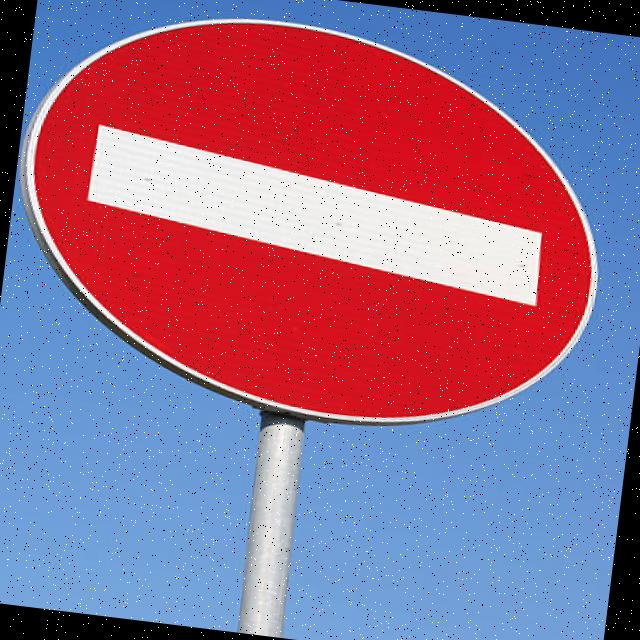do_not_enter: (0, 0, 637, 459)
